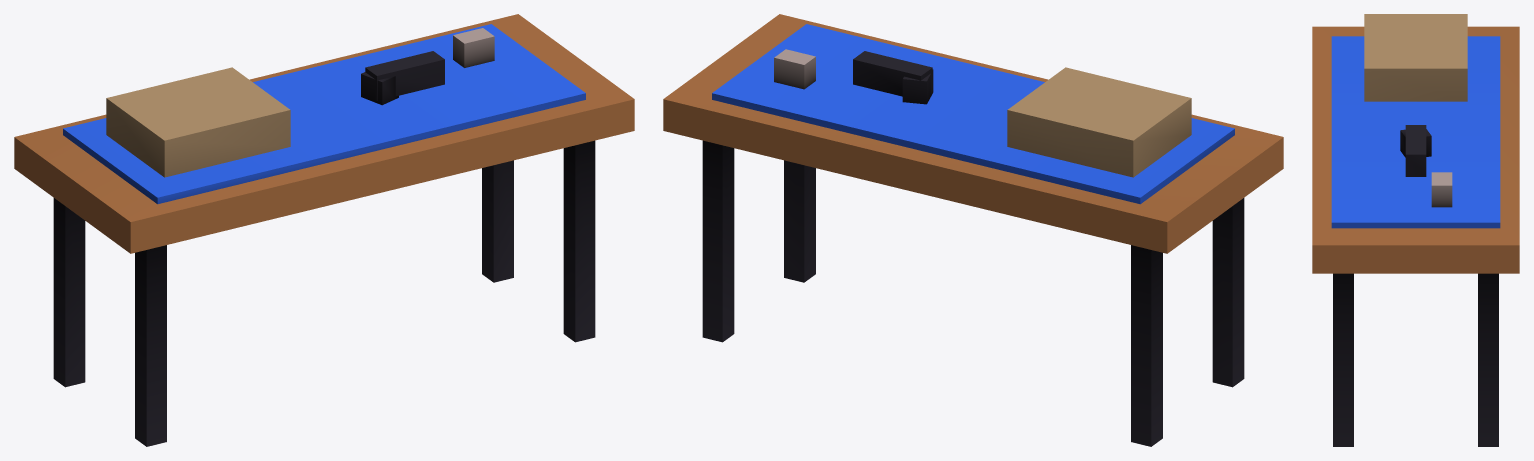
Rendered from prop.armory-table.lod2.glb.
The picture shows the model from 3 angles, left to right: view 1: azimuth 30°, elevation 25°; view 2: azimuth 150°, elevation 25°; view 3: azimuth 270°, elevation 25°; orthographic projection. The views are drawn at different scales.
Parts seen in each view (by area): view 1: body; view 2: body; view 3: body.
Boxes of the visible parts, left/top/right/bottom form: body: left=14, top=14, right=634, bottom=446; body: left=663, top=14, right=1283, bottom=446; body: left=1312, top=14, right=1519, bottom=446.
Size of the model in its own units: 2 by 1.08 by 0.8.
